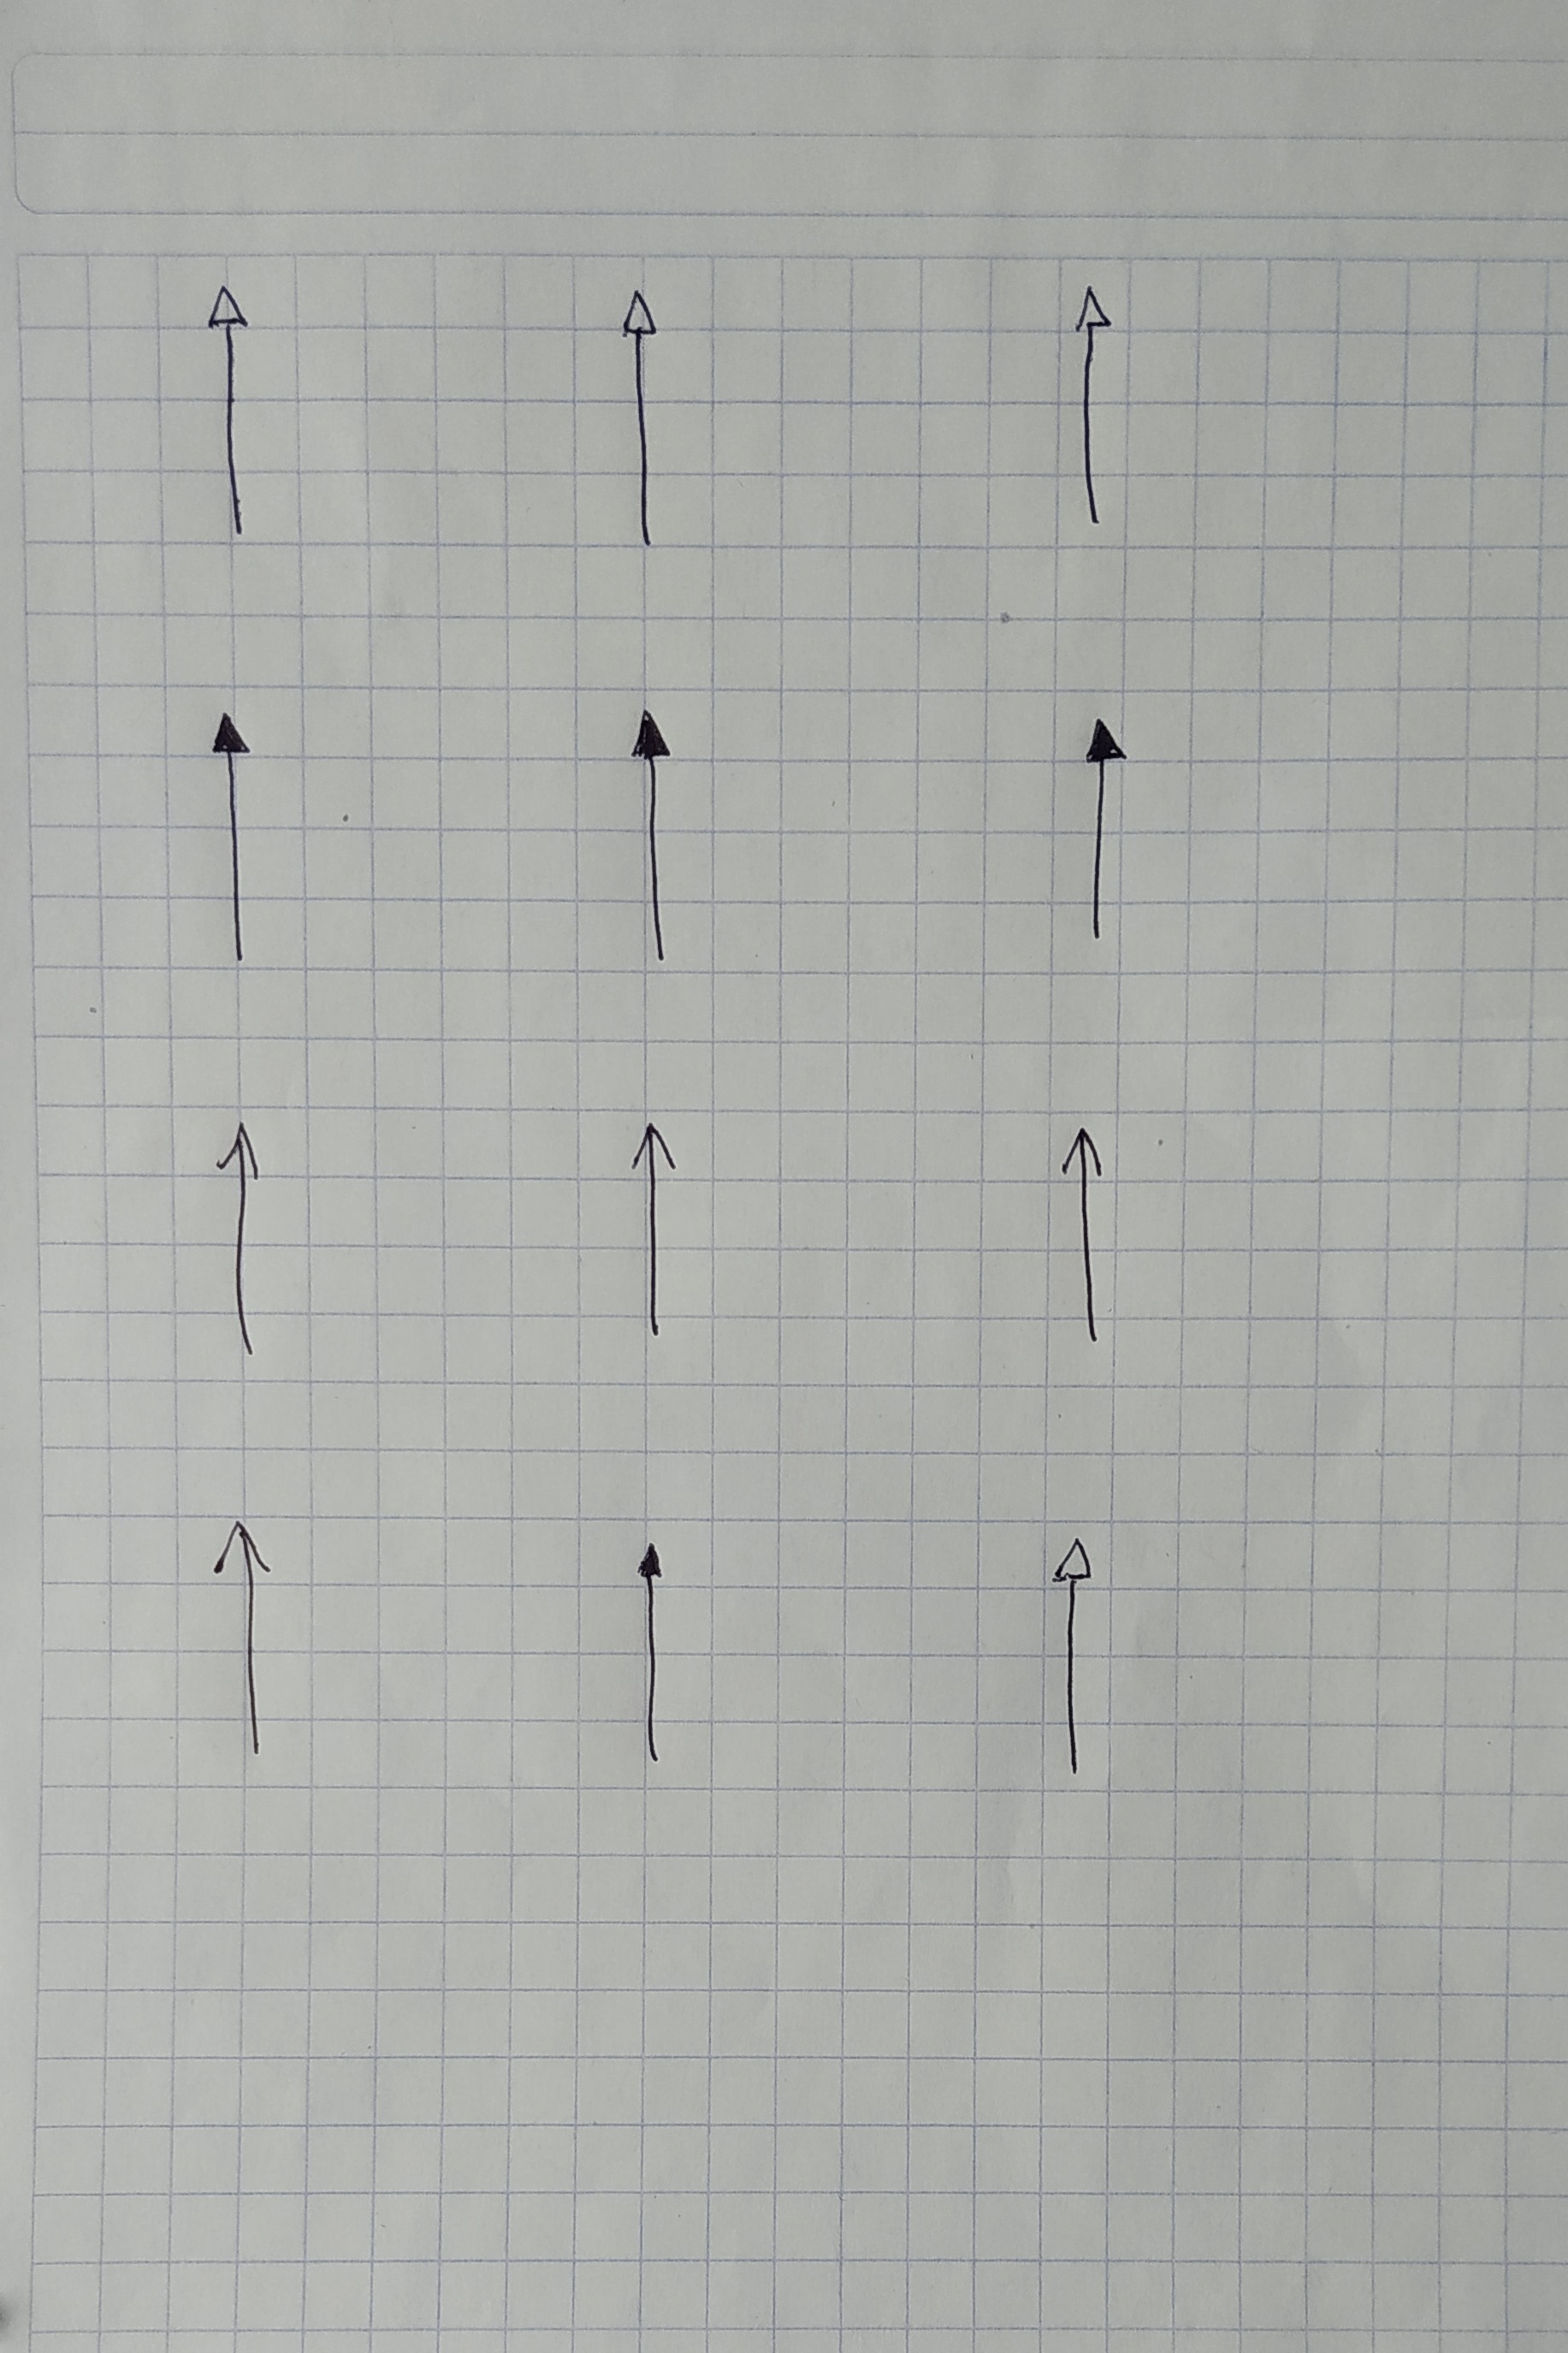arrow_line_up: (208, 1521, 282, 1759), (201, 282, 259, 543), (628, 707, 682, 973), (1059, 1124, 1118, 1352), (206, 709, 257, 972), (626, 1117, 684, 1343), (215, 1120, 268, 1364), (1080, 711, 1130, 951), (1069, 284, 1118, 530), (616, 289, 661, 551), (1052, 1530, 1094, 1779), (633, 1537, 668, 1768)
